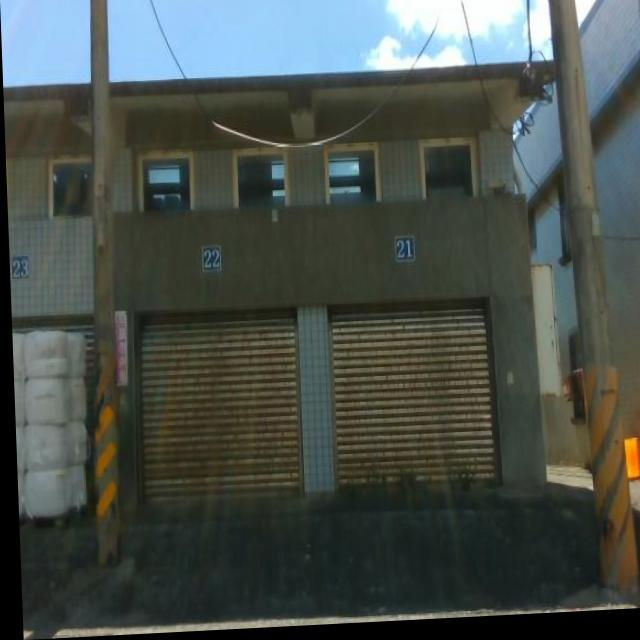pollute: (9, 324, 85, 523), (619, 436, 640, 490)
